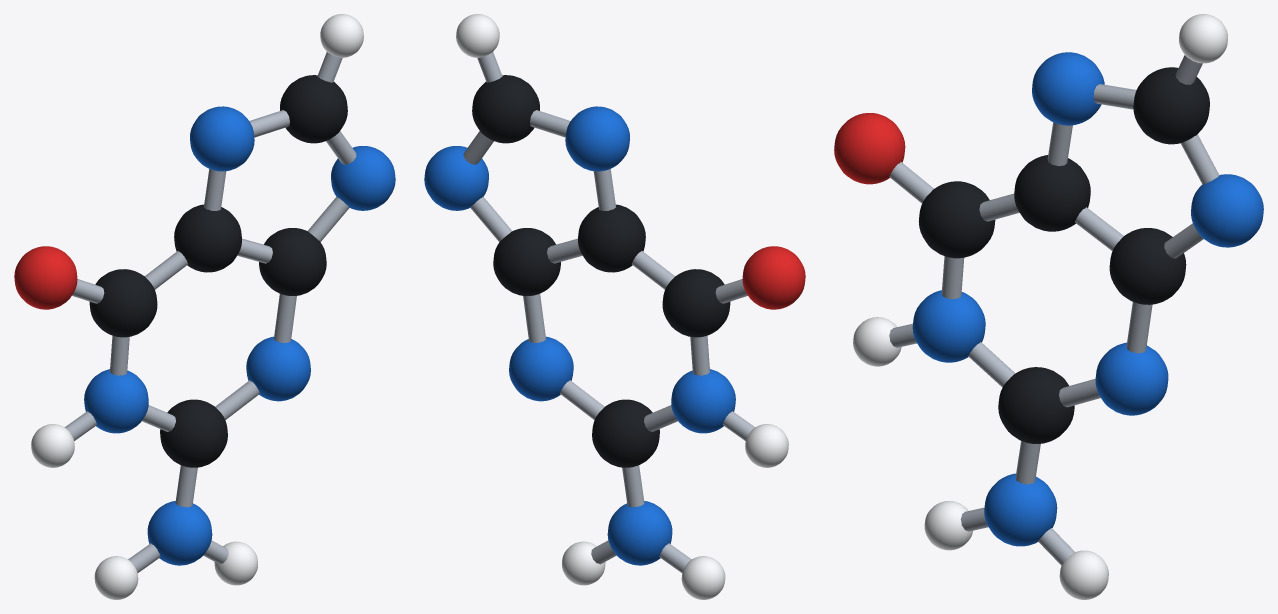
Rendered from guanine.glb.
3 views of the same model, side by side, from view 1: azimuth 30°, elevation 25°; view 2: azimuth 150°, elevation 25°; view 3: azimuth 330°, elevation 25° (orthographic). The views are drawn at different scales.
Parts seen in each view (by area): view 1: Baza_G; view 2: Baza_G; view 3: Baza_G.
Boxes of the visible parts, left/top/right/bottom form: Baza_G: left=14, top=14, right=395, bottom=599; Baza_G: left=424, top=14, right=805, bottom=599; Baza_G: left=834, top=14, right=1263, bottom=599.
Bounding box in the file's own units: 1.85 × 2.57 × 0.294.
